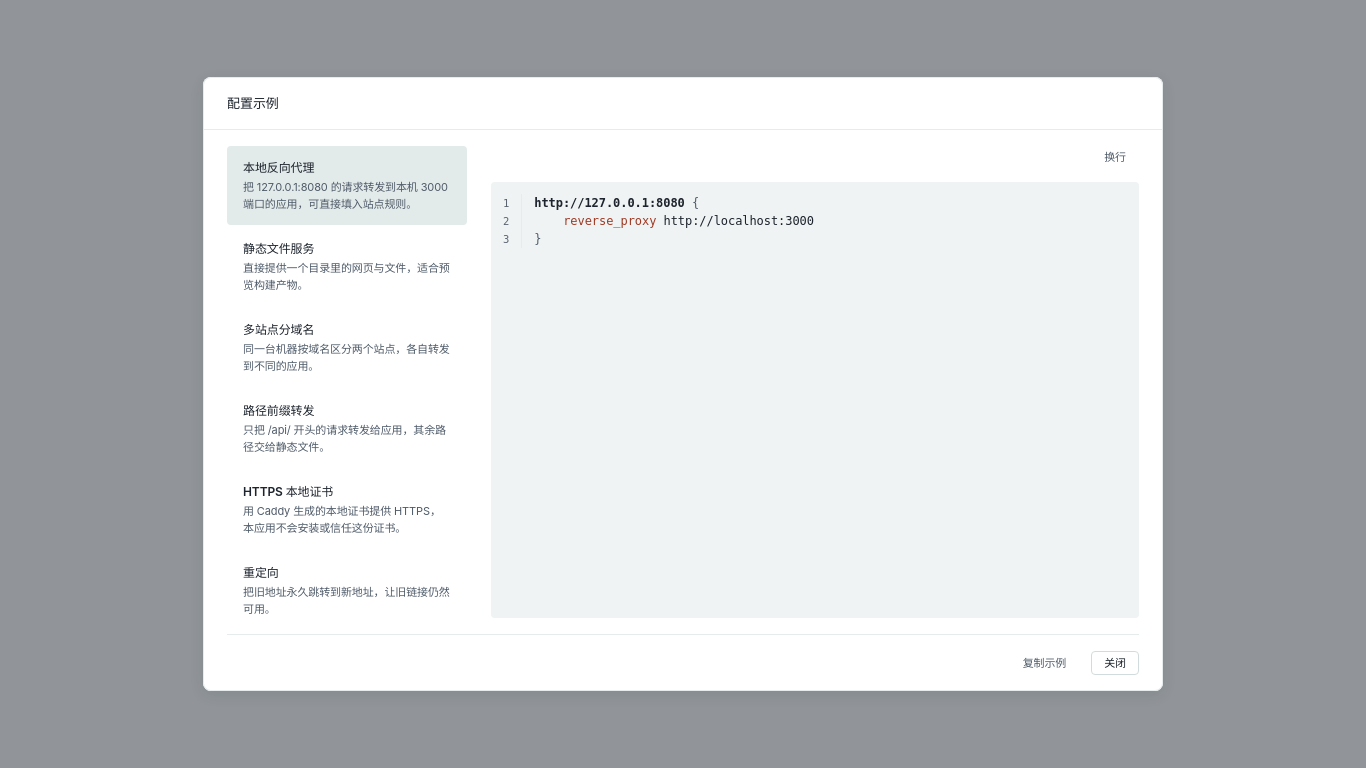
Scenario: CaddyExamplesDialog › shows the explained failure message when the clipboard rejects
Click the button "复制示例" at (1044, 663), box [1010, 651, 1079, 675]
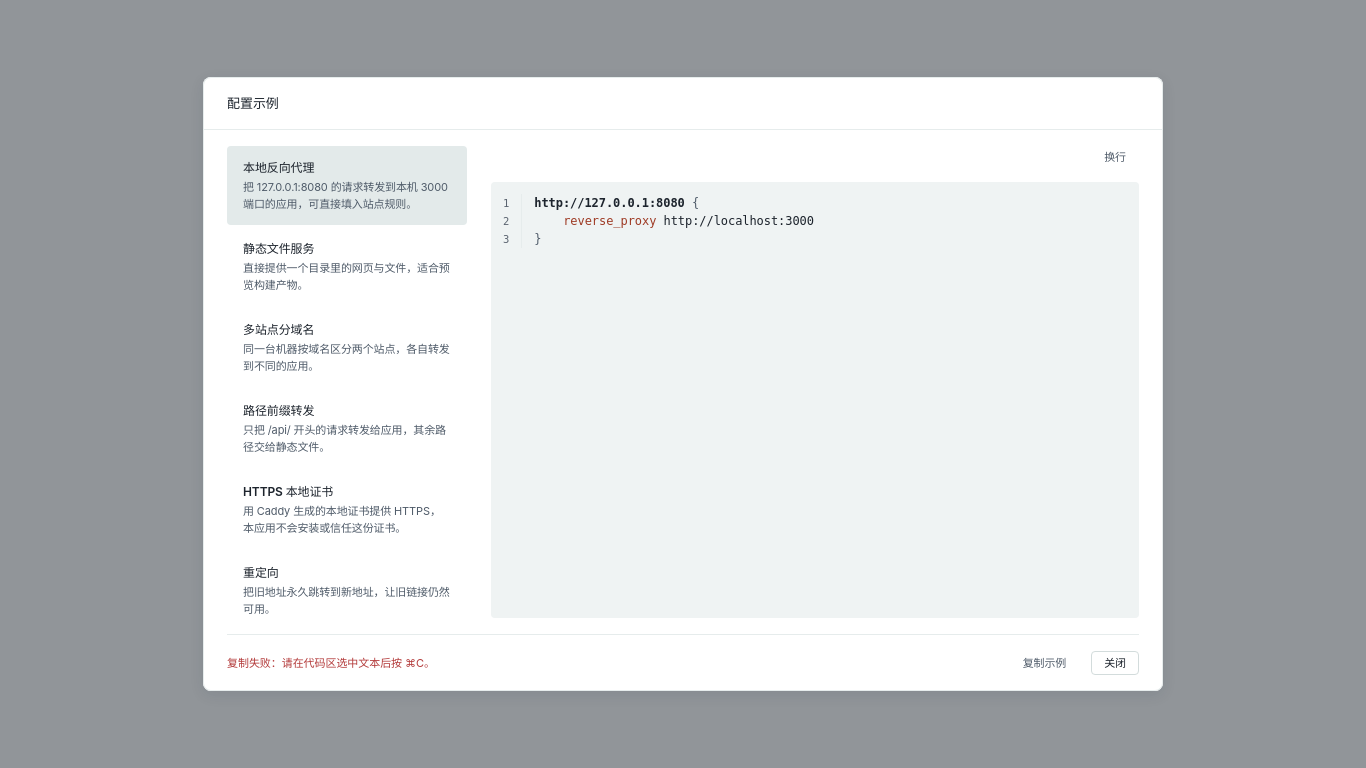
Check: the text "复制失败：请在代码区选中文本后按 ⌘C。" is shown, box [227, 655, 435, 672]
